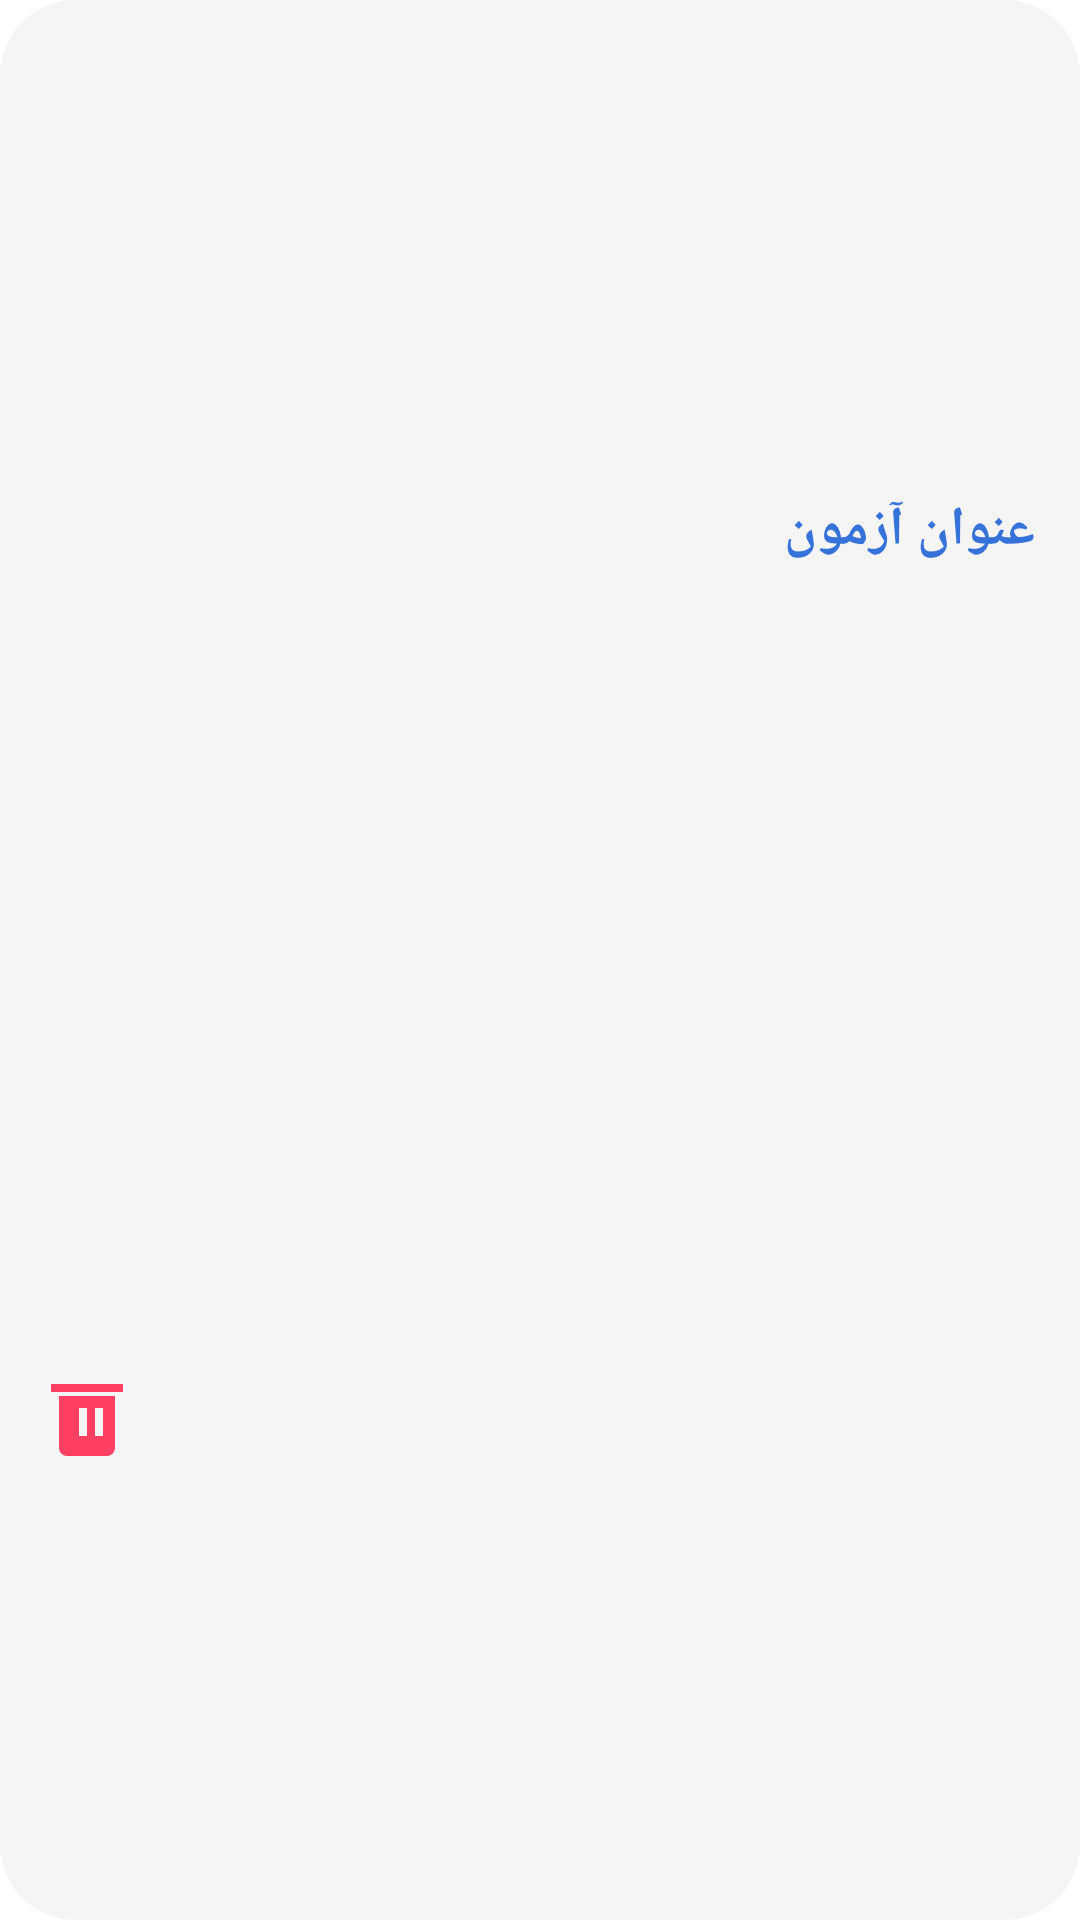

Point at icon controls on the screen. Image size 1080px x 1920px, points as [x,y].
حذف آزمون: [87,1420]
